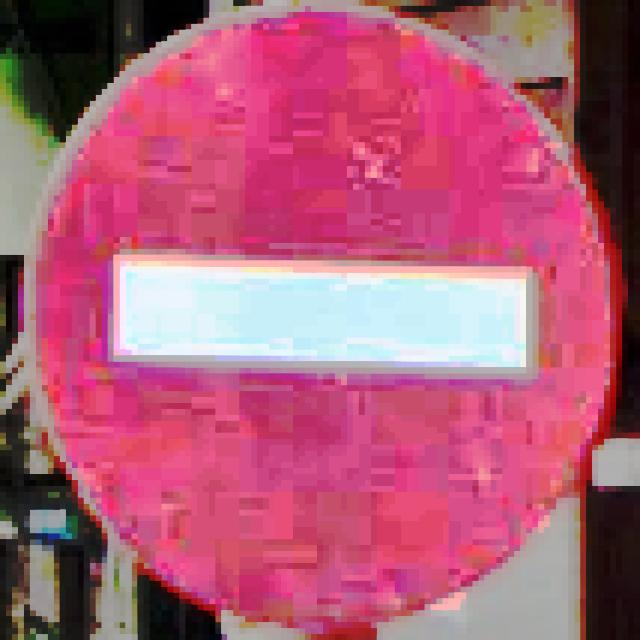noentry: (24, 4, 622, 632)
